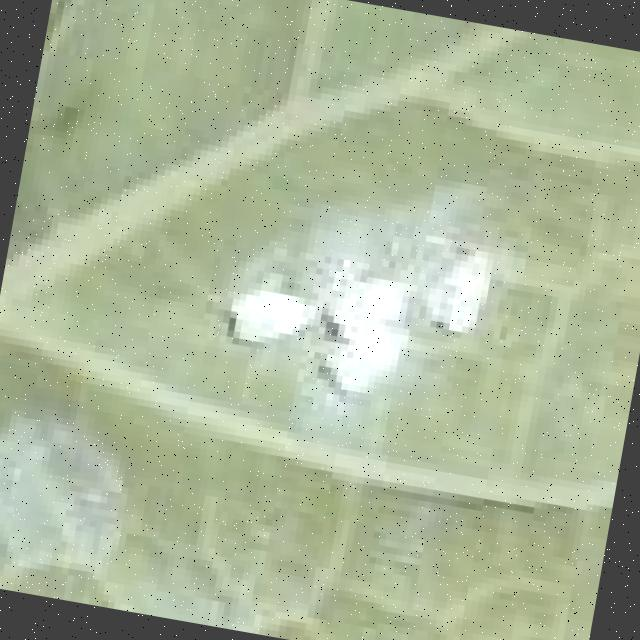whitefly: (179, 172, 561, 457)
